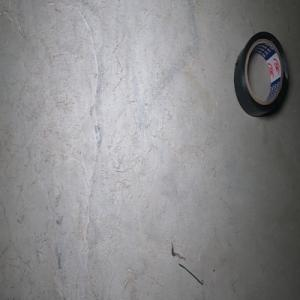Tape: (233, 31, 288, 117)
